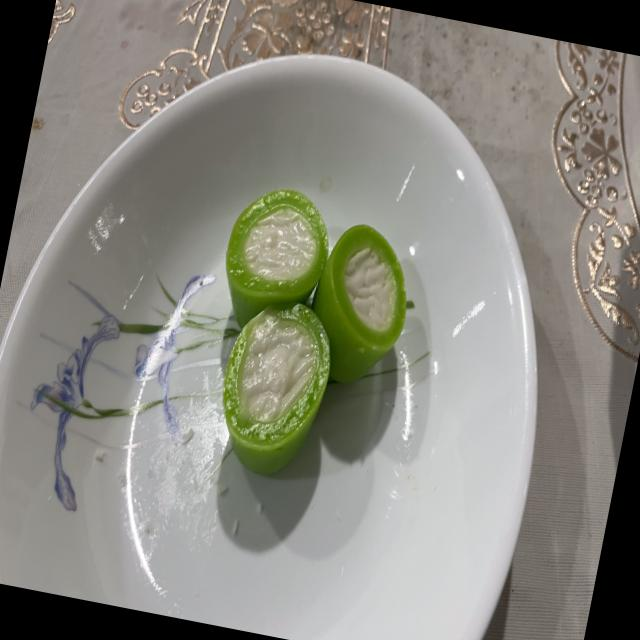nona-manis: (223, 304, 330, 475), (312, 224, 407, 383), (226, 189, 329, 328)
